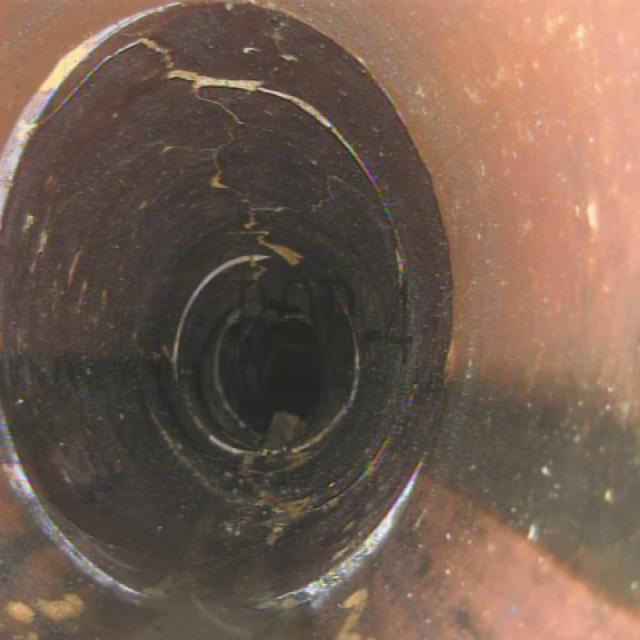Crack: (98, 29, 313, 233)
